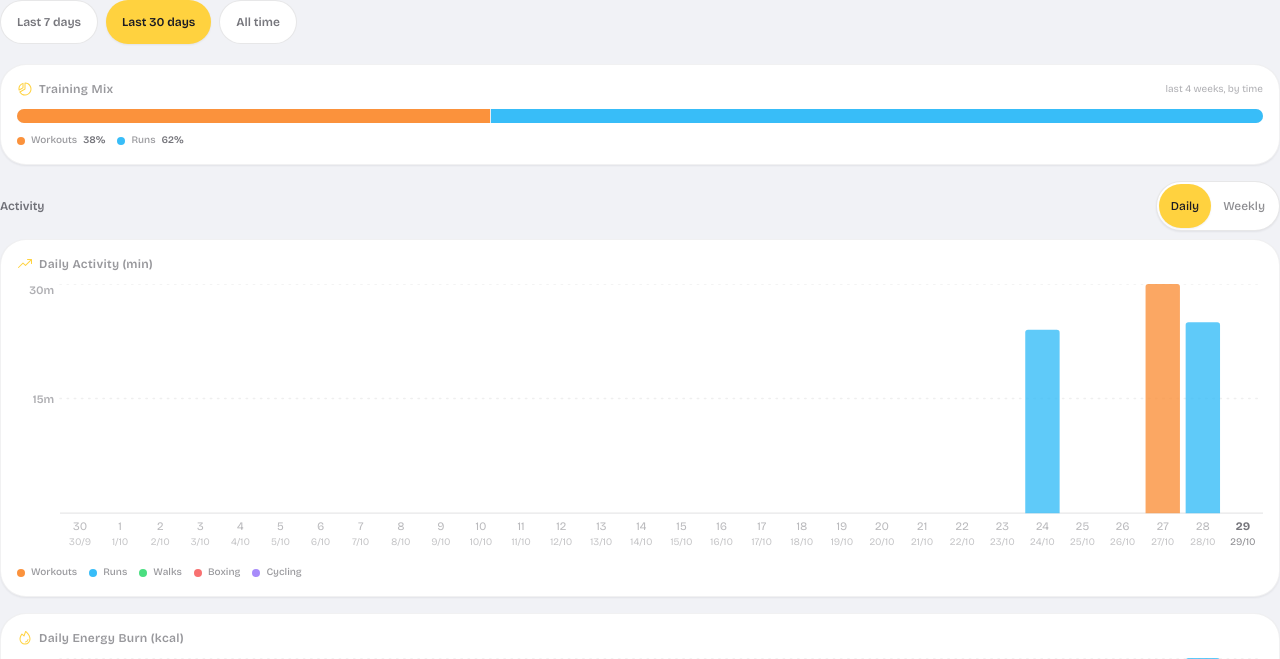
Test: StatsTab › shows month-over-month comparison in weekly mode
What coordinates should you click on to do the following:
click the button "Weekly"
I would click on:
 (1244, 206)
Its box is [1211,184,1277,228].
(page scrolled)
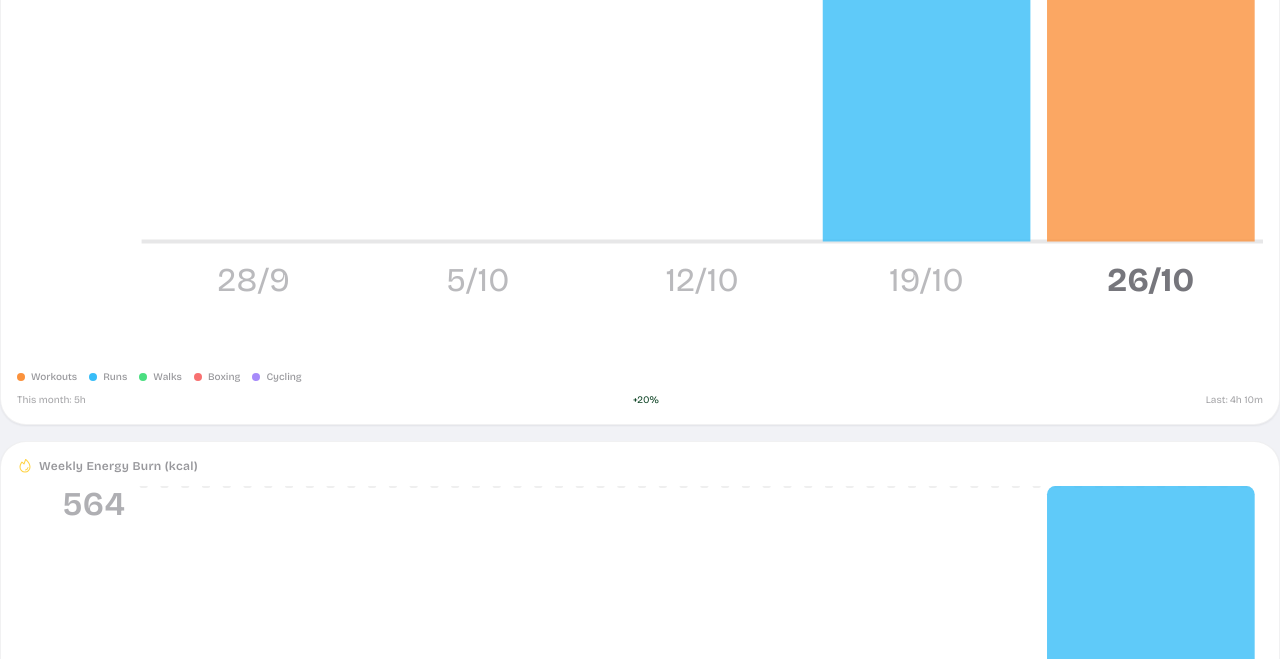
Now the text "+20%" is shown, box [633,393,659,408]
